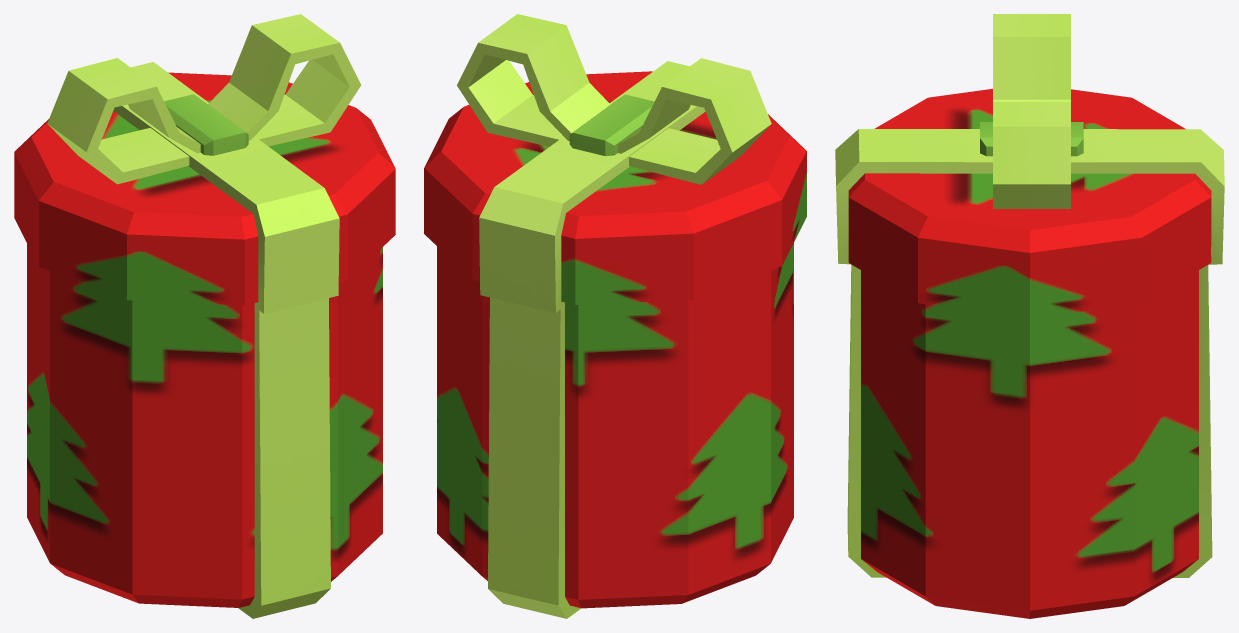
3 views of the same model, side by side, from view 1: azimuth 30°, elevation 25°; view 2: azimuth 150°, elevation 25°; view 3: azimuth 270°, elevation 25° (orthographic).
Visible parts, largest first — view 1: smMAT0110025; view 2: smMAT0110025; view 3: smMAT0110025.
Boxes of the visible parts, left/top/right/bottom form: smMAT0110025: left=14, top=14, right=395, bottom=618; smMAT0110025: left=424, top=14, right=806, bottom=618; smMAT0110025: left=835, top=14, right=1224, bottom=618.
Size of the model in its own units: 74.39 by 106 by 75.96.
Materials: 1 (1 with a texture image).
